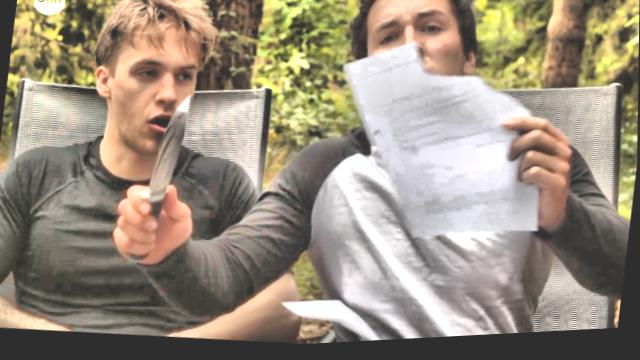knife: (113, 85, 200, 264)
